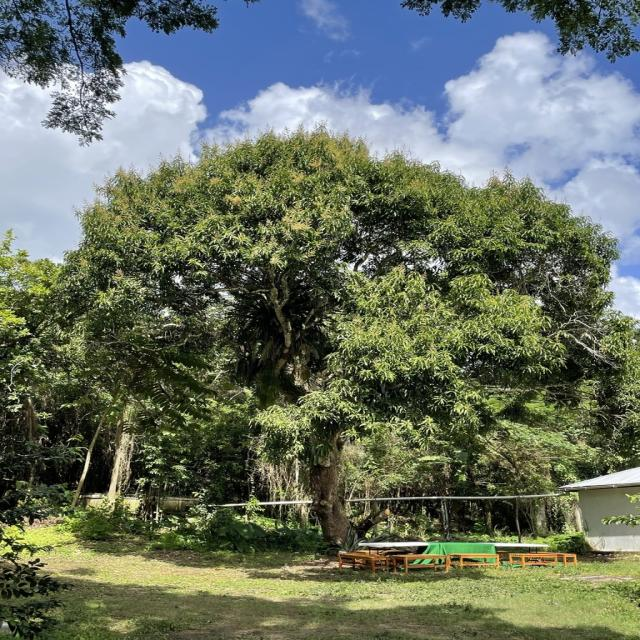Mango-Tree: (56, 132, 606, 550)
